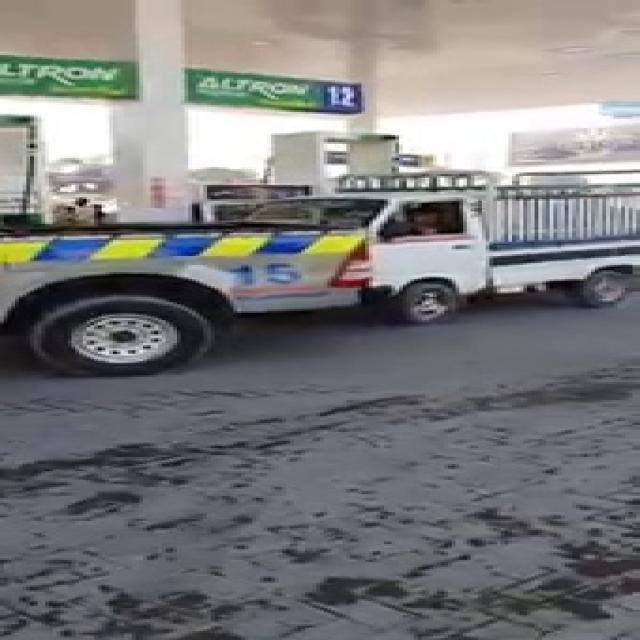police: (0, 220, 439, 349)
